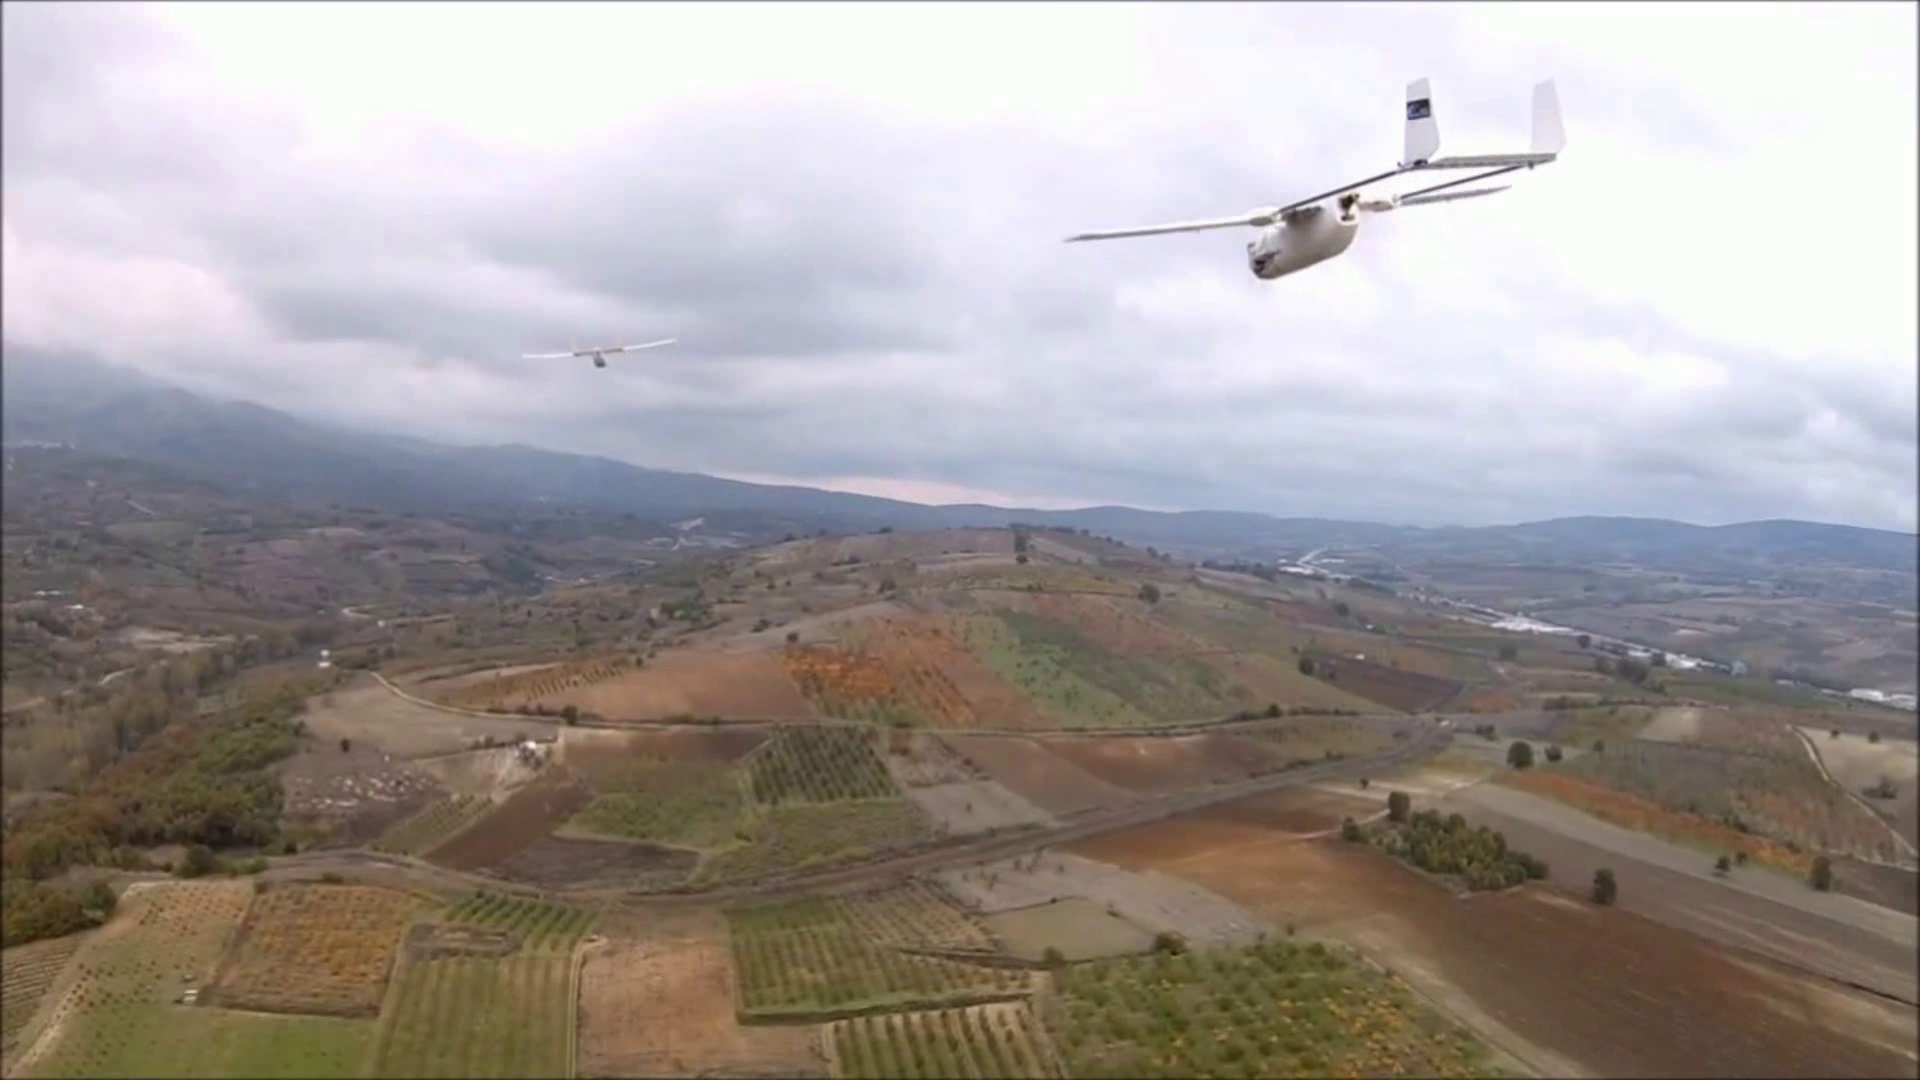airplane: (1064, 78, 1563, 284)
